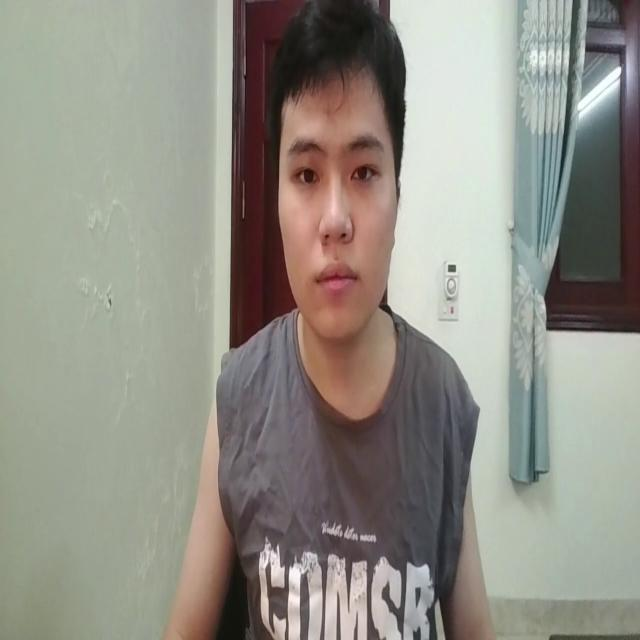student: (161, 0, 492, 640)
